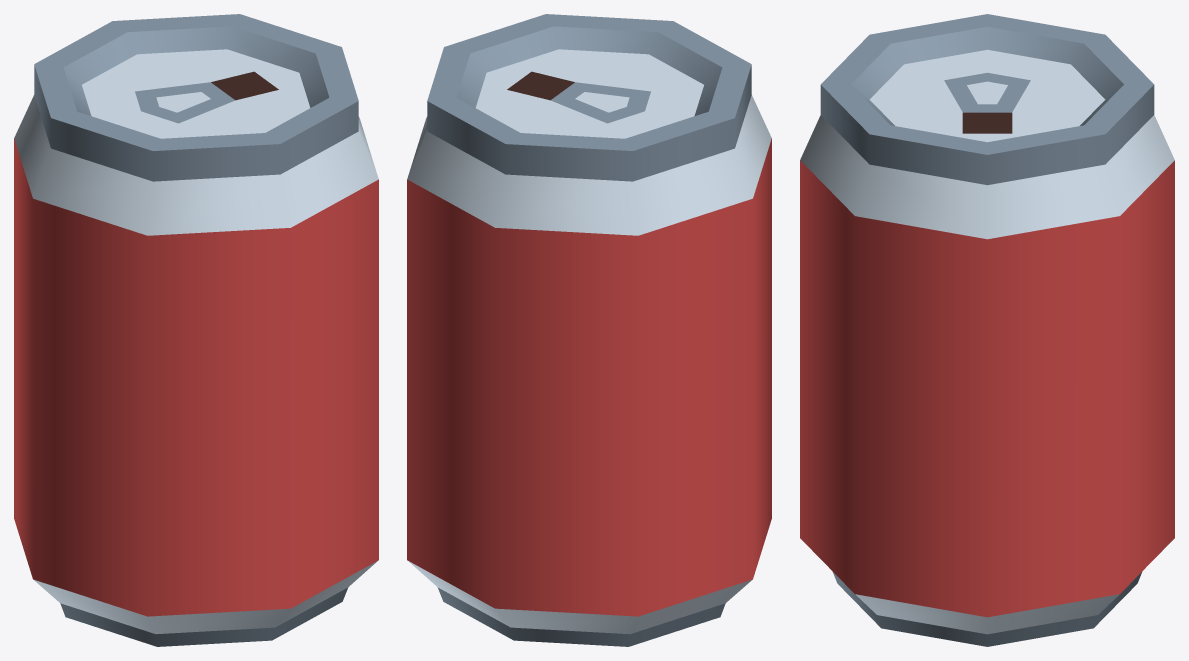
Rendered from sodaCan.GLB.
3 renders of one model, left to right at view 1: azimuth 30°, elevation 25°; view 2: azimuth 150°, elevation 25°; view 3: azimuth 270°, elevation 25°, orthographic.
Visible parts, largest first — view 1: sodaCan; view 2: sodaCan; view 3: sodaCan.
Boxes of the visible parts, box(x1,y1,x2,y2) form: sodaCan: box(14, 14, 378, 646); sodaCan: box(407, 14, 771, 646); sodaCan: box(800, 14, 1174, 646).
Size of the model in its own units: 0.2246 by 0.33 by 0.2246.
